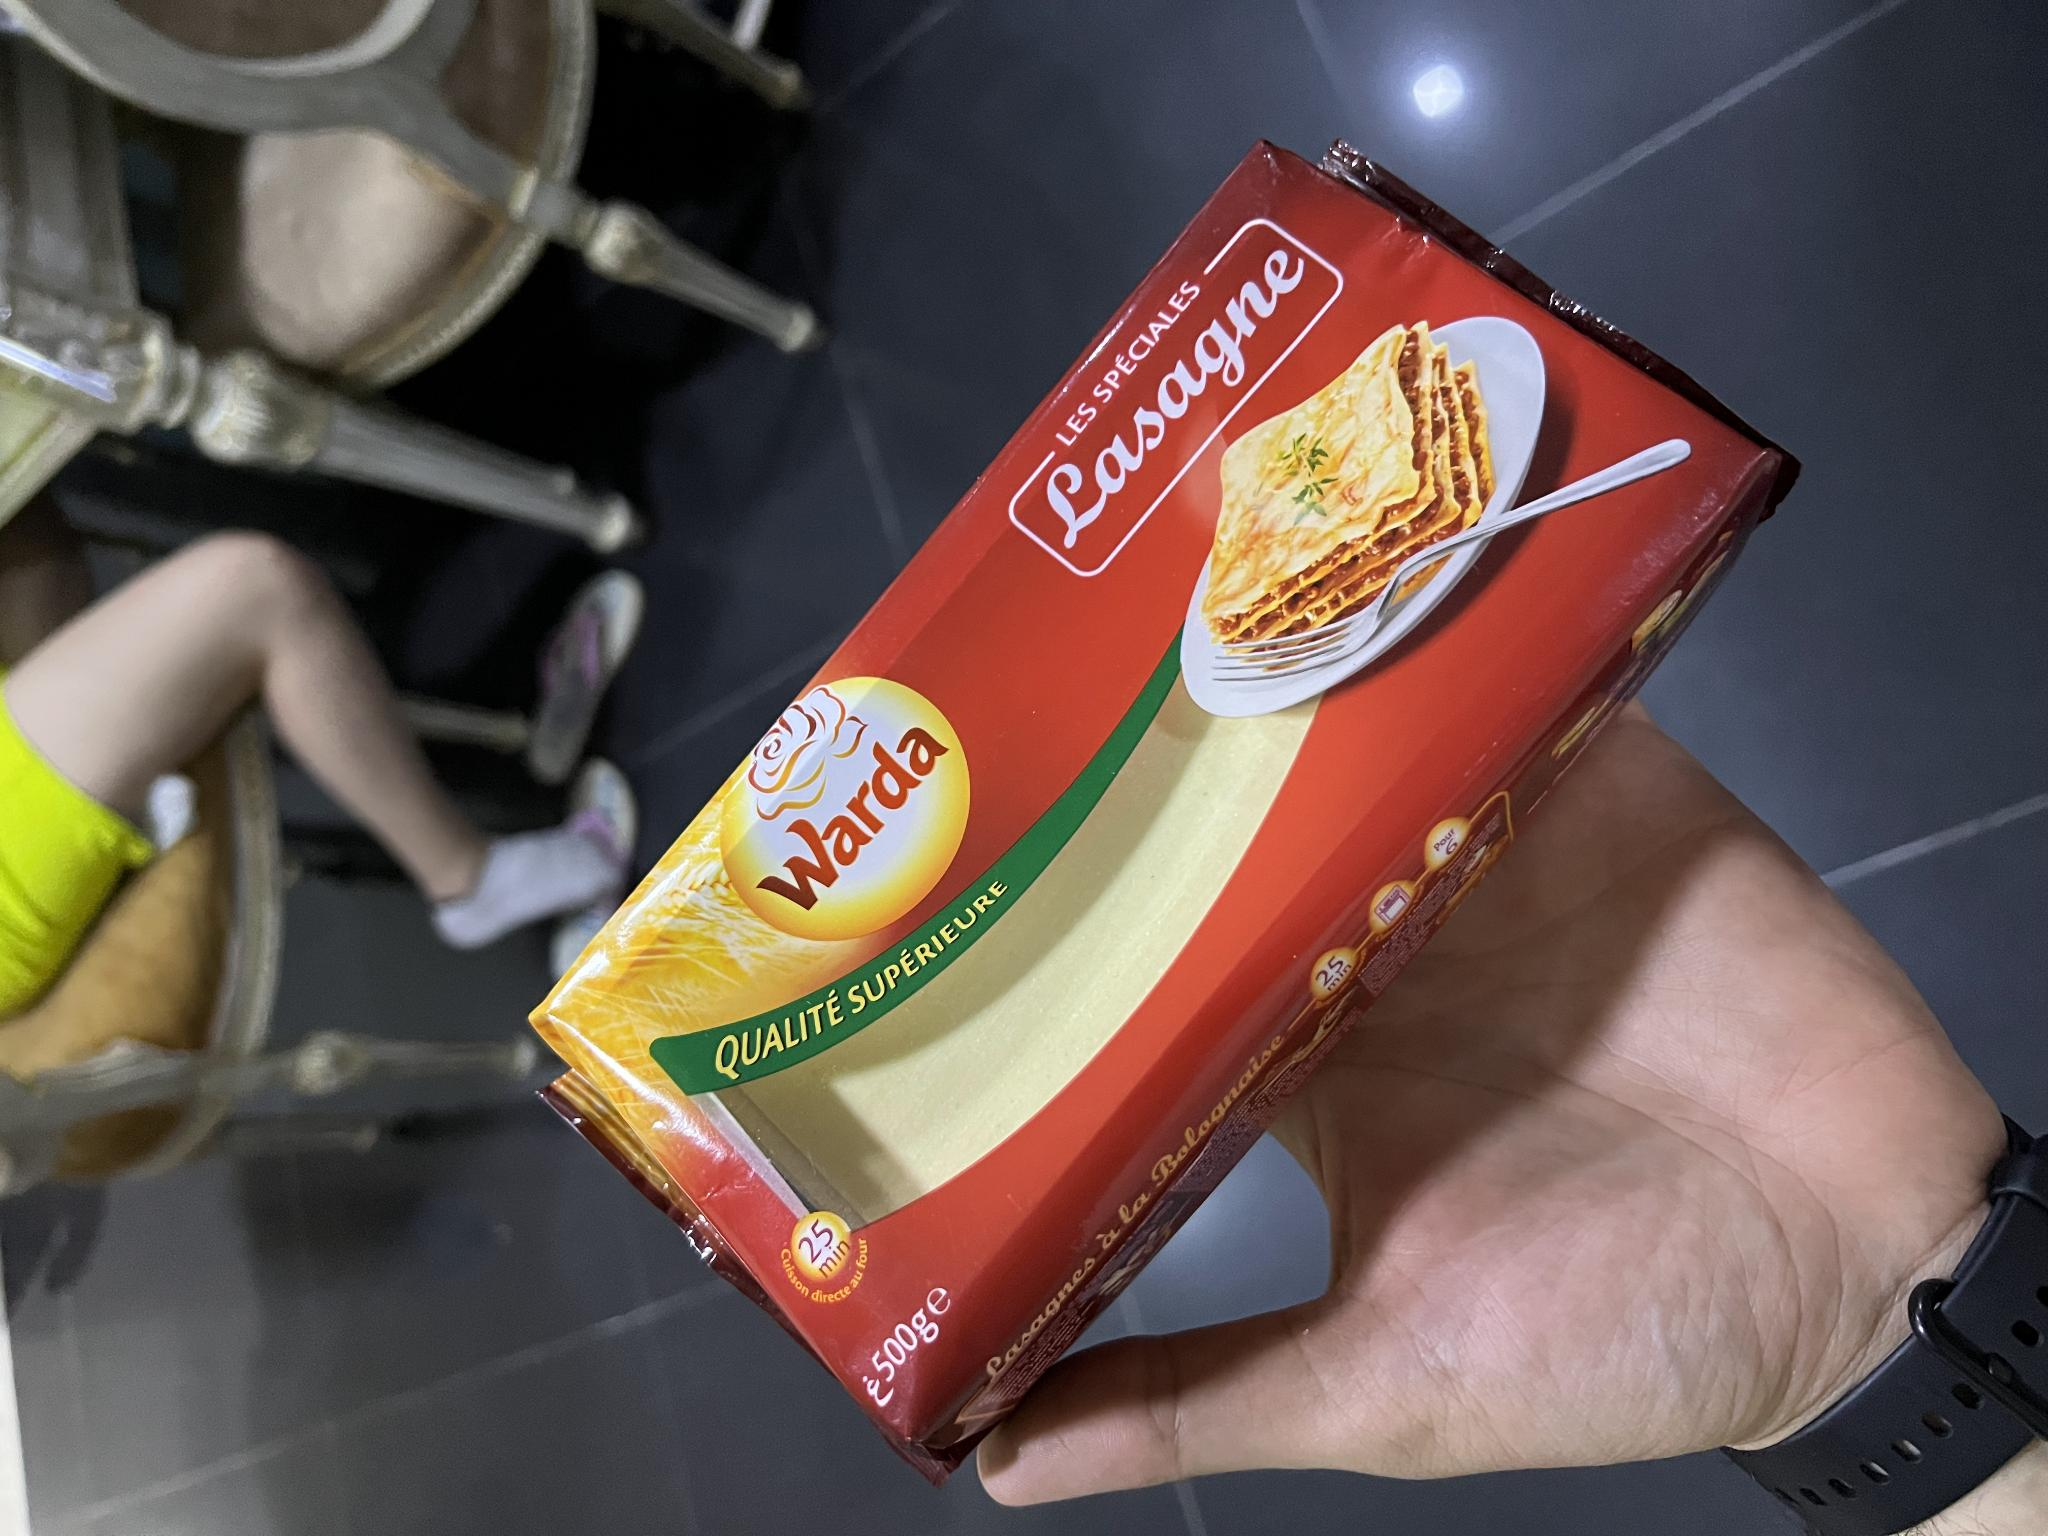lasagne: (550, 158, 1755, 1441)
